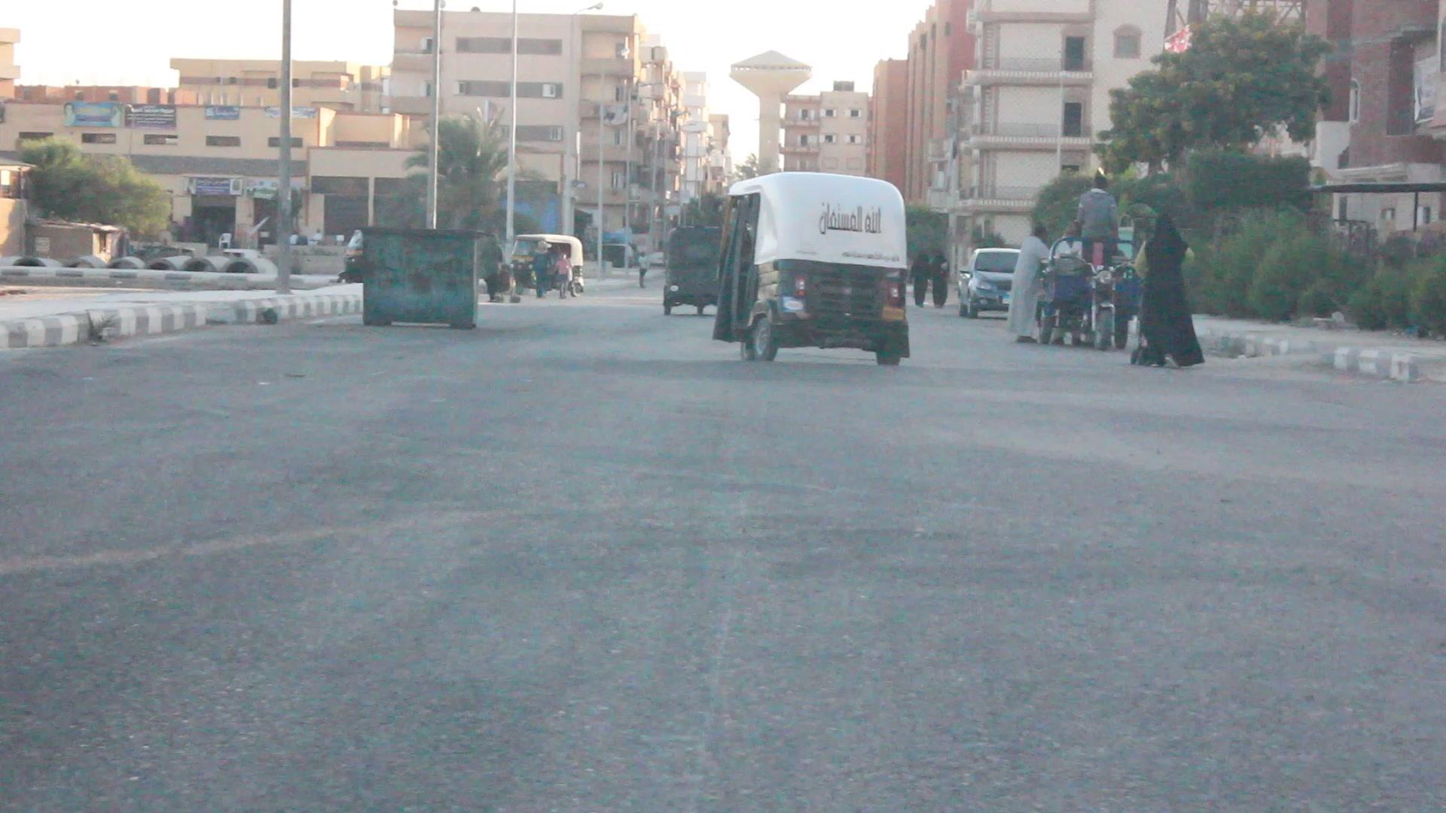Bump: (137, 337, 1346, 391)
